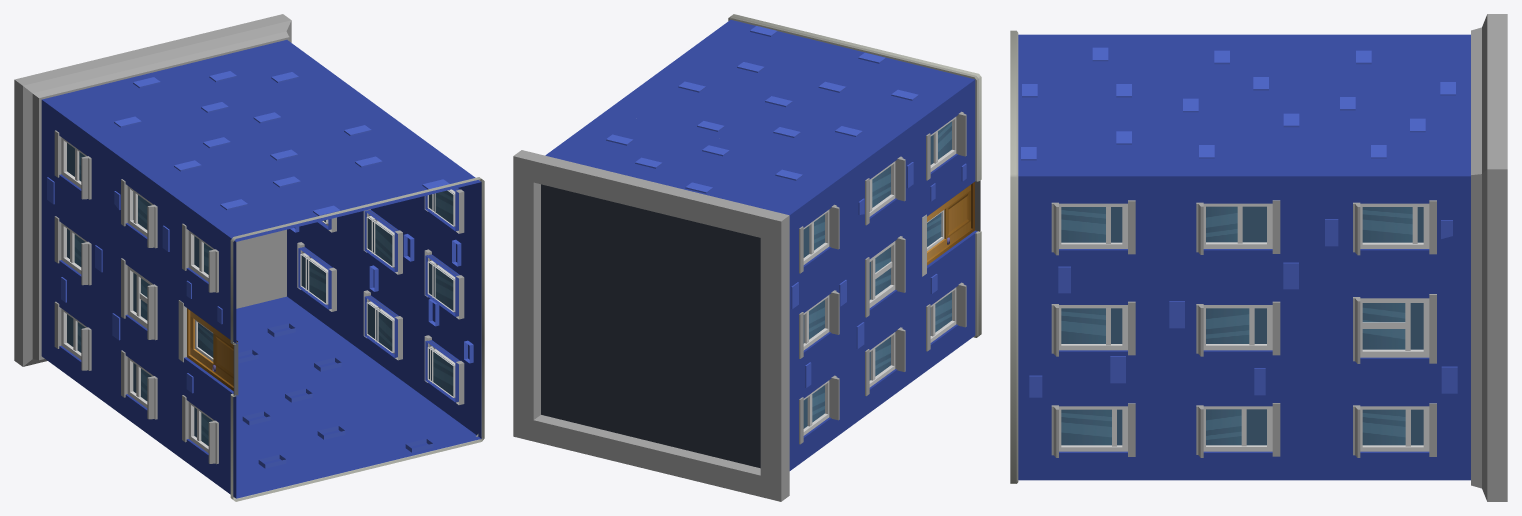
File: Building_2_6_C.fbx
The picture shows the model from 3 angles, left to right: view 1: azimuth 30°, elevation 25°; view 2: azimuth 150°, elevation 25°; view 3: azimuth 270°, elevation 25°; orthographic projection. The views are drawn at different scales.
Parts seen in each view (by area): view 1: Building_2_6_C; view 2: Building_2_6_C; view 3: Building_2_6_C.
Part boxes in pixels (x1,y1,x2,y2): Building_2_6_C: [14, 14, 484, 501]; Building_2_6_C: [513, 14, 981, 501]; Building_2_6_C: [1010, 14, 1507, 501].
Size of the model in its own units: 620 by 620 by 840.
